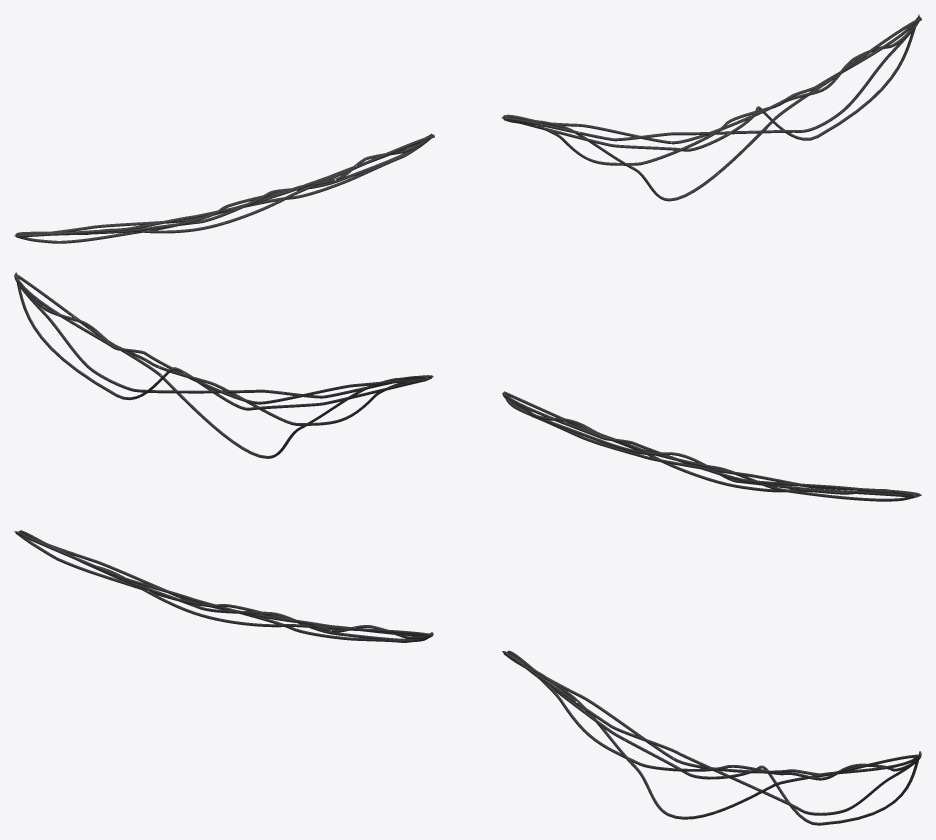
The model's file is ElectricalWire_01.fbx.
The picture shows the model from 3 angles, top to bottom: view 1: azimuth 30°, elevation 25°; view 2: azimuth 150°, elevation 25°; view 3: azimuth 330°, elevation 25°; orthographic projection.
Visible parts, largest first — view 1: ElectricalWring_01_A, ElectricalWring_01_B; view 2: ElectricalWring_01_A, ElectricalWring_01_B; view 3: ElectricalWring_01_A, ElectricalWring_01_B.
Boxes of the visible parts, x1,y1,x2,y2 form: ElectricalWring_01_A: (501,14,921,201); ElectricalWring_01_B: (14,133,434,243); ElectricalWring_01_A: (14,272,433,458); ElectricalWring_01_B: (502,391,921,501); ElectricalWring_01_A: (502,650,921,825); ElectricalWring_01_B: (14,530,433,642).
Size of the model in its own units: 296 by 39.32 by 4.14.
Materials: 1 (1 with a texture image).
